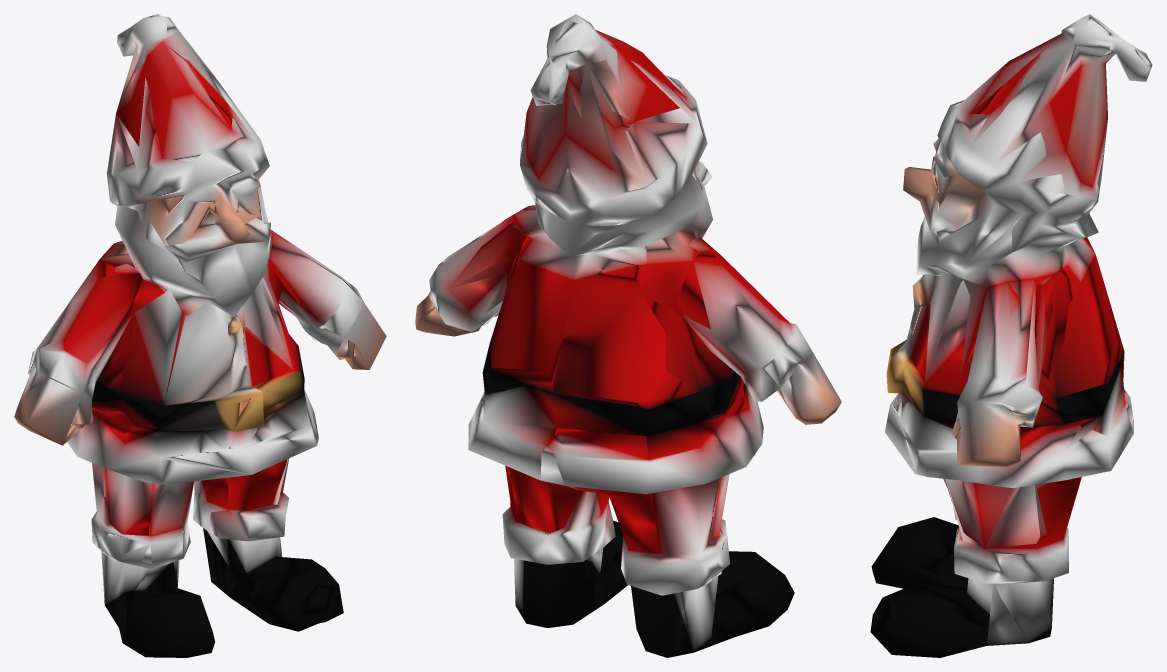
The model's file is gen3d-santa-lod1.glb.
3 renders of one model, left to right at view 1: azimuth 30°, elevation 25°; view 2: azimuth 150°, elevation 25°; view 3: azimuth 270°, elevation 25°, orthographic. The views are drawn at different scales.
Parts seen in each view (by area): view 1: part_0; view 2: part_0; view 3: part_0.
Boxes of the visible parts, x1,y1,x2,y2 form: part_0: [14, 14, 386, 657]; part_0: [415, 14, 841, 657]; part_0: [870, 14, 1152, 657].
Bounding box in the file's own units: 0.6789 × 0.9987 × 0.4334.
